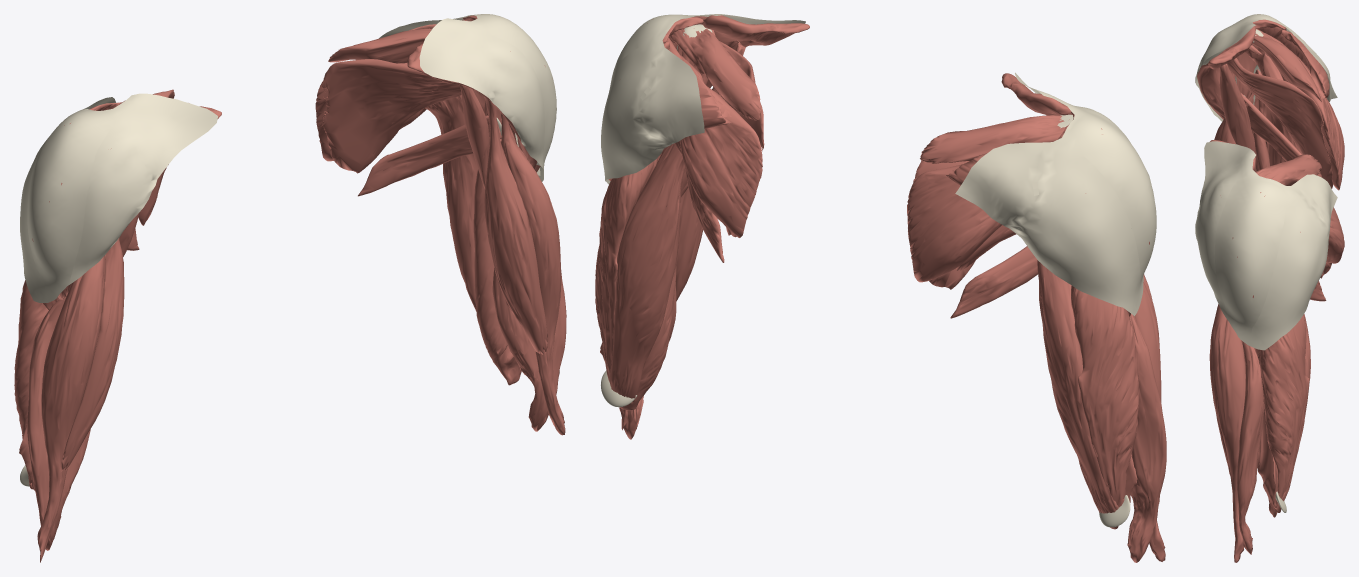
Rendered from muscles-shoulder-arm.glb.
The picture shows the model from 3 angles, left to right: view 1: azimuth 30°, elevation 25°; view 2: azimuth 150°, elevation 25°; view 3: azimuth 270°, elevation 25°; orthographic projection. The views are drawn at different scales.
Parts seen in each view (by area): view 1: Deltoid fascia.r.001, Deltoid fascia.l.001, Subscapularis muscle.l.001, Long head of biceps brachii.r.001, Short head of biceps brachii.l.001, Long head of biceps brachii.l.001, Short head of biceps brachii.r.001, Long head of triceps brachii.l.001, Brachialis muscle.r.001, Medial head of triceps brachii.l.001, Brachialis muscle.l.001, Teres major muscle.l.001 (+5 smaller); view 2: Deltoid fascia.r.001, Deltoid fascia.l.001, Long head of triceps brachii.l.001, Lateral head of triceps brachii.r.001, Infraspinatus muscle.l.001, Infraspinatus muscle.r.001, Long head of triceps brachii.r.001, Brachialis muscle.r.001, Lateral head of triceps brachii.l.001, Supraspinatus muscle.r.001, Supraspinatus muscle.l.001, Teres major muscle.r.001 (+9 smaller); view 3: Deltoid fascia.l.001, Lateral head of triceps brachii.l.001, Long head of biceps brachii.l.001, Subscapularis muscle.r.001, Brachialis muscle.l.001, Deltoid fascia.r.001, Coracobrachialis muscle.r.001, Clavicular part of deltoid muscle.r.001, Infraspinatus muscle.r.001, Supraspinatus muscle.r.001, Teres major muscle.r.001, Scapular spinal part of deltoid muscle.r.001 (+9 smaller).
Part boxes in pixels (x1,y1,x2,y2): Deltoid fascia.r.001: [20, 93, 217, 302]; Deltoid fascia.l.001: [379, 14, 556, 181]; Subscapularis muscle.l.001: [321, 59, 473, 173]; Long head of biceps brachii.r.001: [37, 255, 105, 562]; Short head of biceps brachii.l.001: [484, 96, 547, 354]; Long head of biceps brachii.l.001: [501, 113, 565, 435]; Short head of biceps brachii.r.001: [61, 238, 124, 471]; Long head of triceps brachii.l.001: [425, 95, 477, 311]; Brachialis muscle.r.001: [27, 296, 90, 550]; Medial head of triceps brachii.l.001: [473, 169, 521, 385]; Brachialis muscle.l.001: [492, 268, 566, 431]; Teres major muscle.l.001: [358, 115, 501, 196]; Deltoid fascia.r.001: [955, 72, 1156, 315]; Deltoid fascia.l.001: [601, 14, 805, 184]; Long head of triceps brachii.l.001: [609, 143, 685, 402]; Lateral head of triceps brachii.r.001: [1071, 285, 1139, 507]; Infraspinatus muscle.l.001: [666, 37, 762, 237]; Infraspinatus muscle.r.001: [907, 165, 1001, 282]; Long head of triceps brachii.r.001: [1037, 260, 1118, 513]; Brachialis muscle.r.001: [1127, 314, 1166, 562]; Lateral head of triceps brachii.l.001: [595, 153, 661, 381]; Supraspinatus muscle.r.001: [920, 115, 1069, 163]; Supraspinatus muscle.l.001: [669, 27, 761, 120]; Teres major muscle.r.001: [950, 246, 1037, 318]; Deltoid fascia.l.001: [1195, 141, 1337, 350]; Lateral head of triceps brachii.l.001: [1259, 315, 1309, 512]; Long head of biceps brachii.l.001: [1209, 304, 1245, 562]; Subscapularis muscle.r.001: [1227, 58, 1333, 188]; Brachialis muscle.l.001: [1236, 340, 1264, 554]; Deltoid fascia.r.001: [1195, 14, 1337, 121]; Coracobrachialis muscle.r.001: [1219, 64, 1255, 171]; Clavicular part of deltoid muscle.r.001: [1197, 26, 1255, 119]; Infraspinatus muscle.r.001: [1264, 33, 1344, 190]; Supraspinatus muscle.r.001: [1252, 29, 1321, 101]; Teres major muscle.r.001: [1240, 92, 1301, 161]; Scapular spinal part of deltoid muscle.r.001: [1248, 29, 1329, 134].
Bounding box in the file's own units: 0.4858 × 0.3759 × 0.139.
